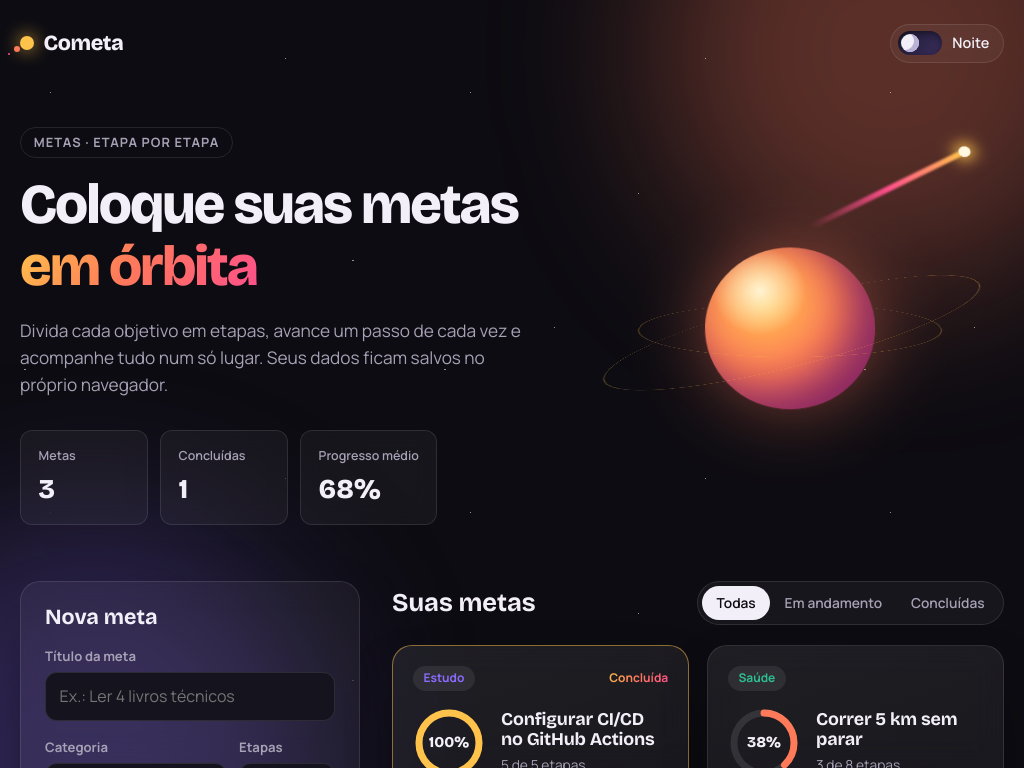
App Cometa › volta uma etapa e não deixa ficar abaixo de zero
Type "Meta de teste" into the field labelled "Título da meta".
click(190, 696); type("Meta de teste")  # box [45,672,335,721]
(page scrolled)
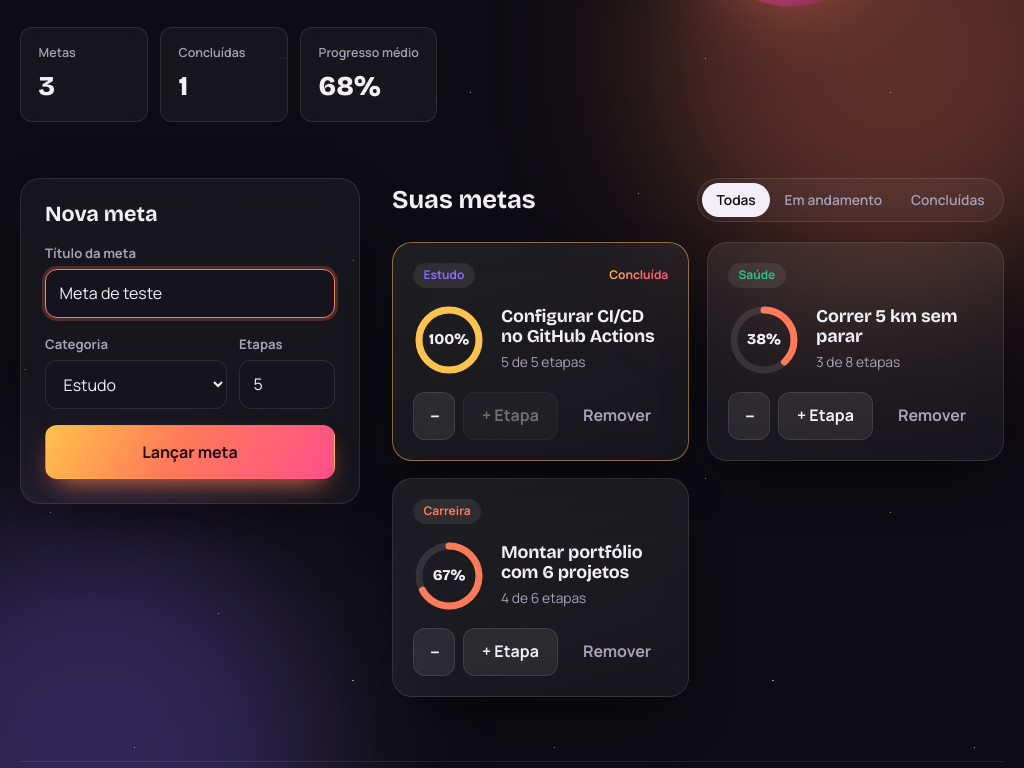
Select "Estudo" in the dropdown labelled "Categoria" at (136, 385), box [45,360,227,409]
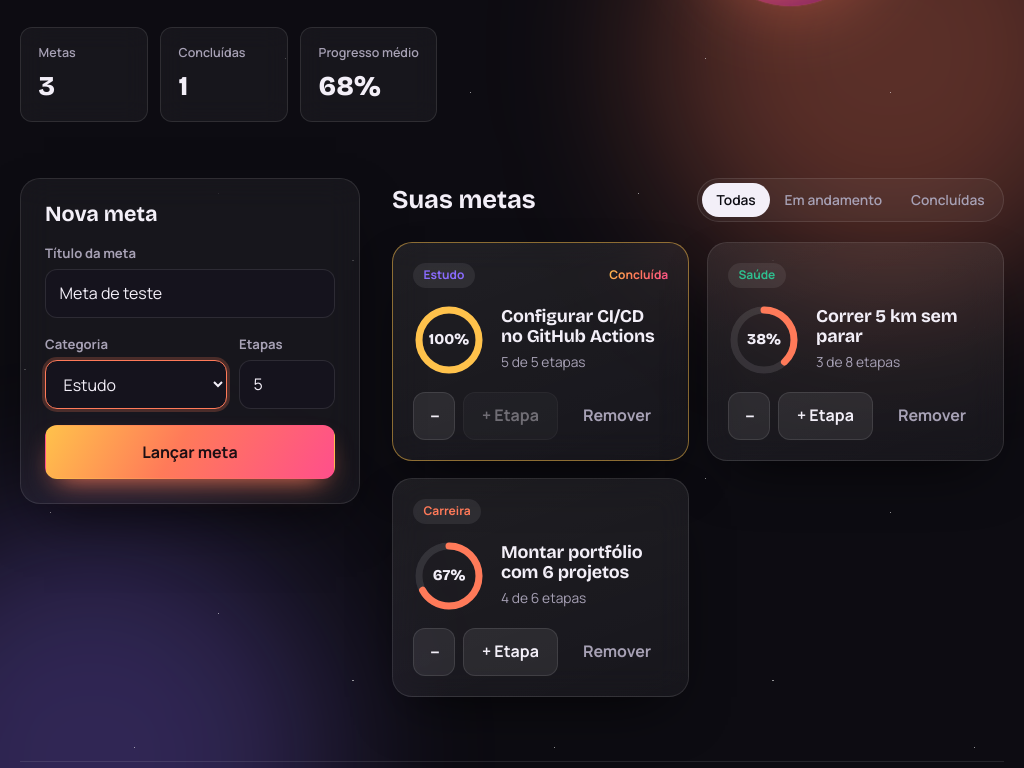
Replace the text in the number field labelled "Etapas" with "3" at (287, 384), box [239,360,335,409]
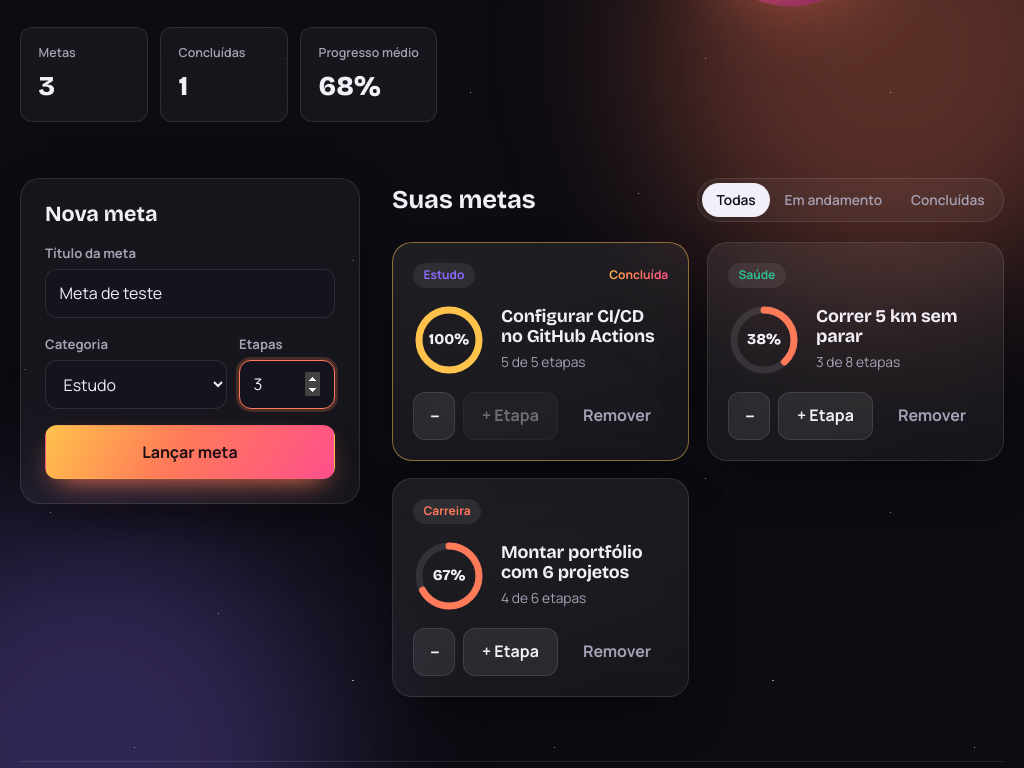
Click the button "Lançar meta".
click(190, 452)  # box [45,425,335,479]
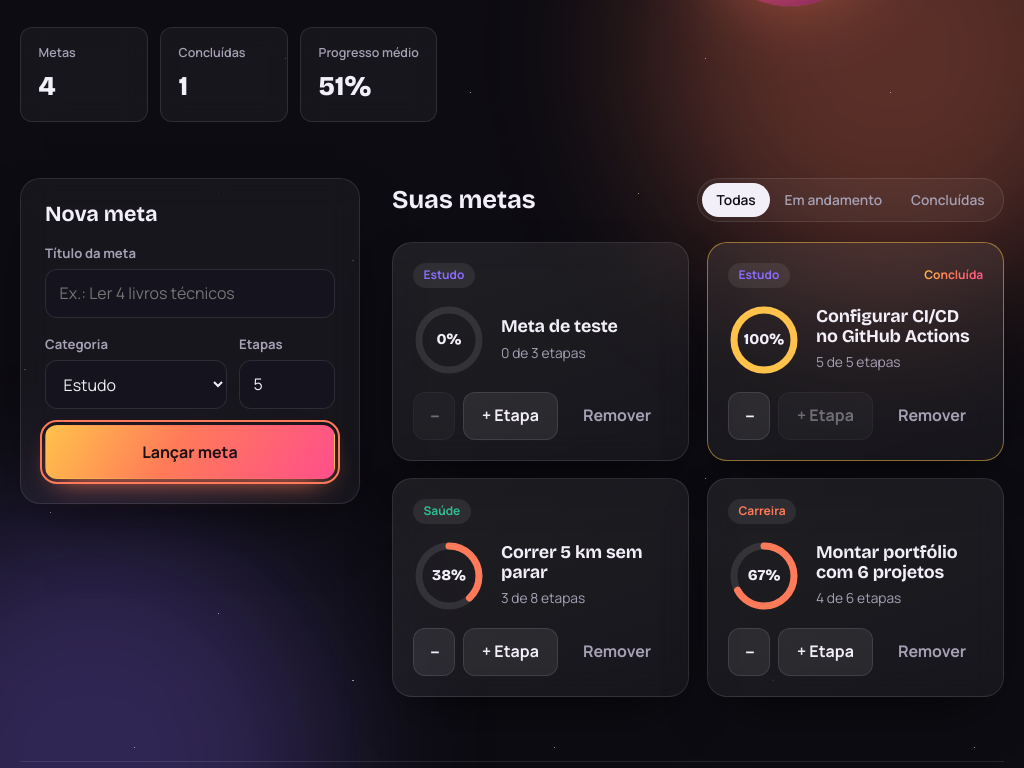
Expected: the button named "Voltar etapa de Meta de teste" is disabled, [413,392,455,440]
Click the button with aria-label "Avançar etapa de Meta de teste".
click(510, 416)  # box [463,392,558,440]
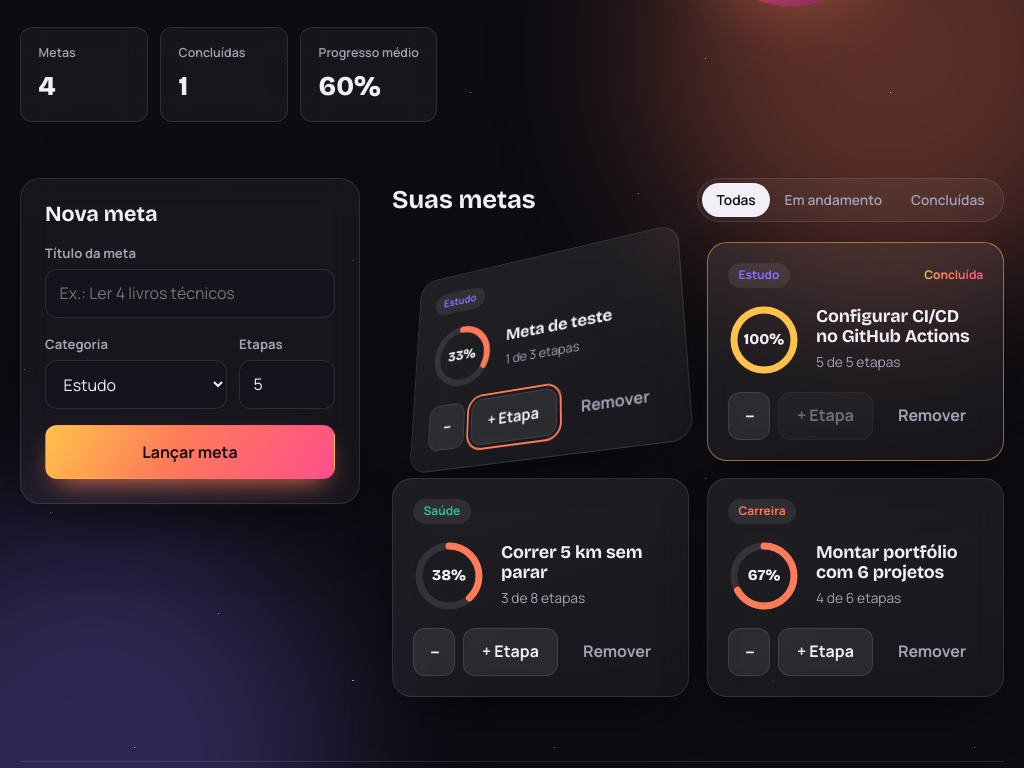
Click the button named "Voltar etapa de Meta de teste".
click(446, 427)  # box [428,402,465,452]
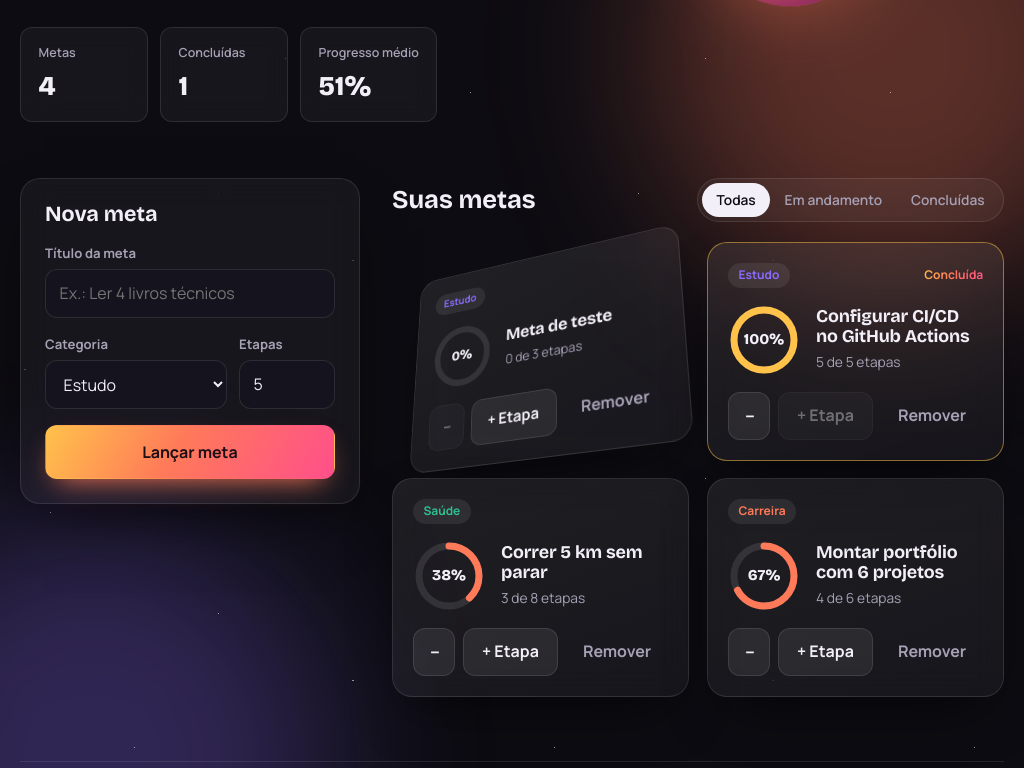
Expected: the text "0 de 3 etapas" is shown, [505,336,582,367]
